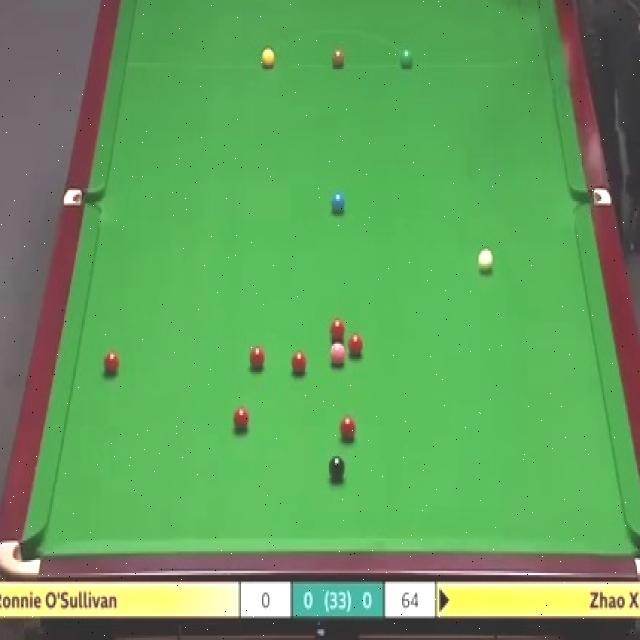black-ball: (327, 456, 346, 484)
blue-ball: (330, 192, 346, 215)
brown-ball: (331, 47, 345, 69)
green-ball: (401, 50, 413, 68)
pink-ball: (328, 344, 345, 371)
red-ball: (102, 345, 121, 375), (248, 344, 266, 370), (340, 415, 358, 441), (348, 330, 364, 359), (232, 407, 250, 431), (329, 317, 346, 341), (292, 352, 306, 377)
white-ball: (477, 250, 494, 276)
yellow-ball: (262, 46, 276, 68)
